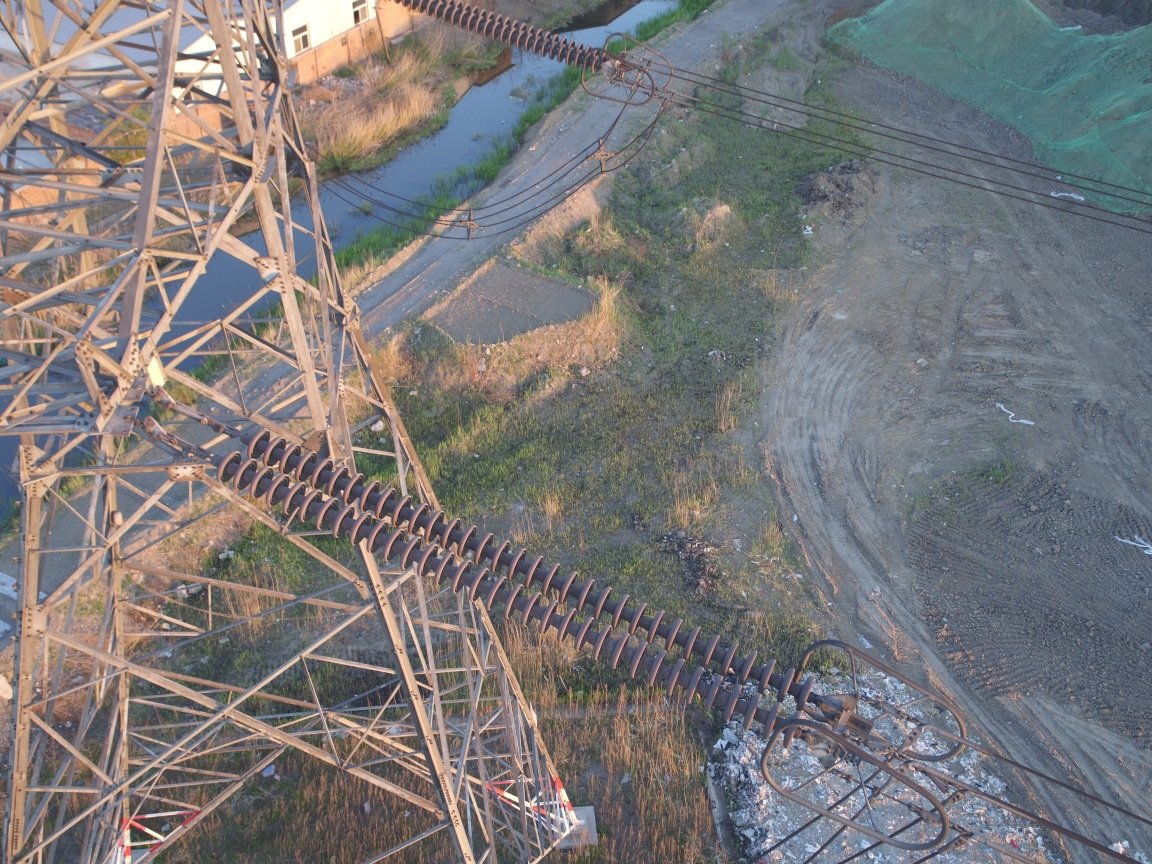insulator: (182, 413, 821, 753), (379, 1, 612, 76)
